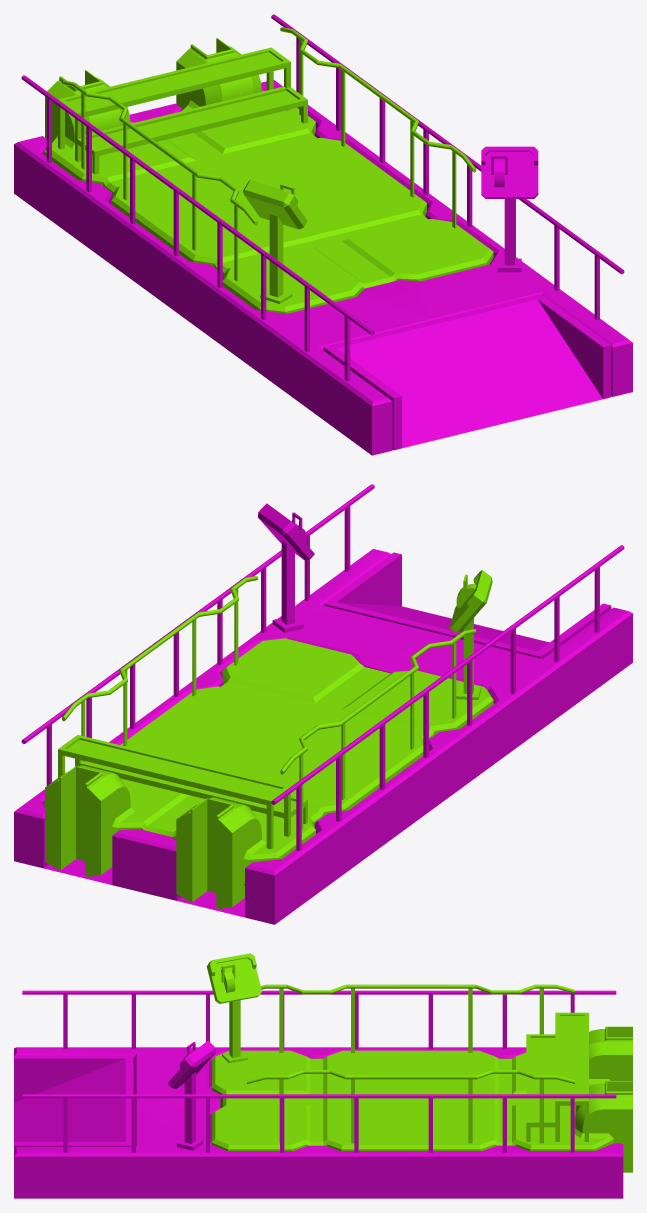
Rendered from SM_Elevator_01.fbx.
The picture shows the model from 3 angles, top to bottom: view 1: azimuth 30°, elevation 25°; view 2: azimuth 150°, elevation 25°; view 3: azimuth 270°, elevation 25°; orthographic projection. The views are drawn at different scales.
Visible parts, largest first — view 1: Bottom, Elevator; view 2: Elevator, Bottom; view 3: Bottom, Elevator.
Part boxes in pixels (left/top/right/bottom): Bottom: left=14, top=14, right=632, bottom=455; Elevator: left=44, top=27, right=493, bottom=313; Elevator: left=44, top=570, right=493, bottom=908; Bottom: left=14, top=484, right=632, bottom=924; Bottom: left=14, top=990, right=623, bottom=1198; Elevator: left=206, top=953, right=632, bottom=1172.
Bounding box in the file's own units: 300 × 180 × 701.
